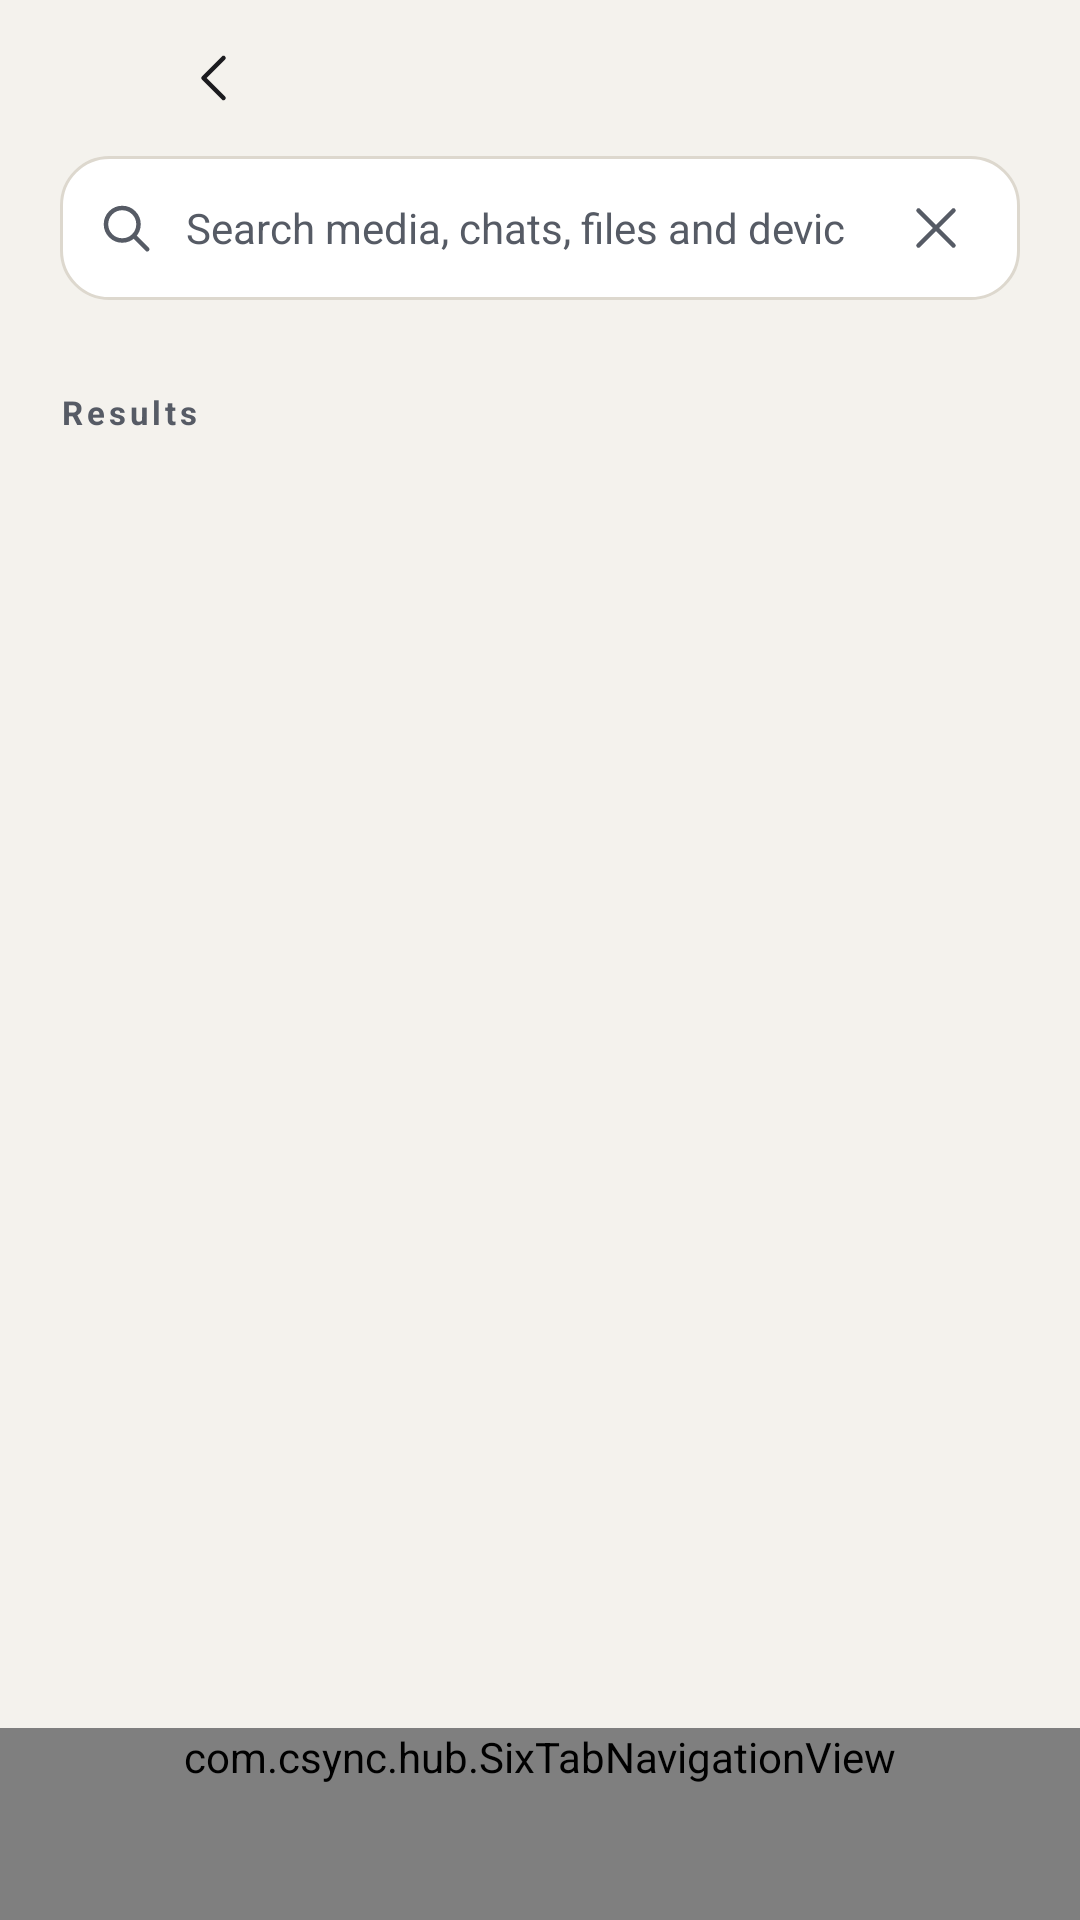

Screen size 1080*1920. Icon name, then its center in pixels as (x=x, y=y):
Back: (x=213, y=78)
Clear search: (x=936, y=228)
